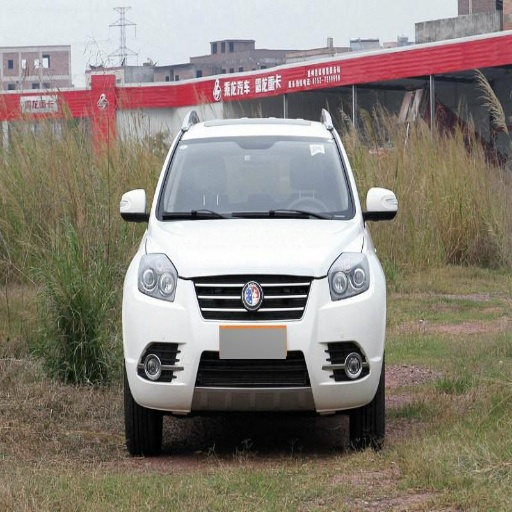front_bumper: (125, 276, 383, 413)
front_right_light: (138, 253, 178, 301)
hood: (147, 219, 364, 277)
